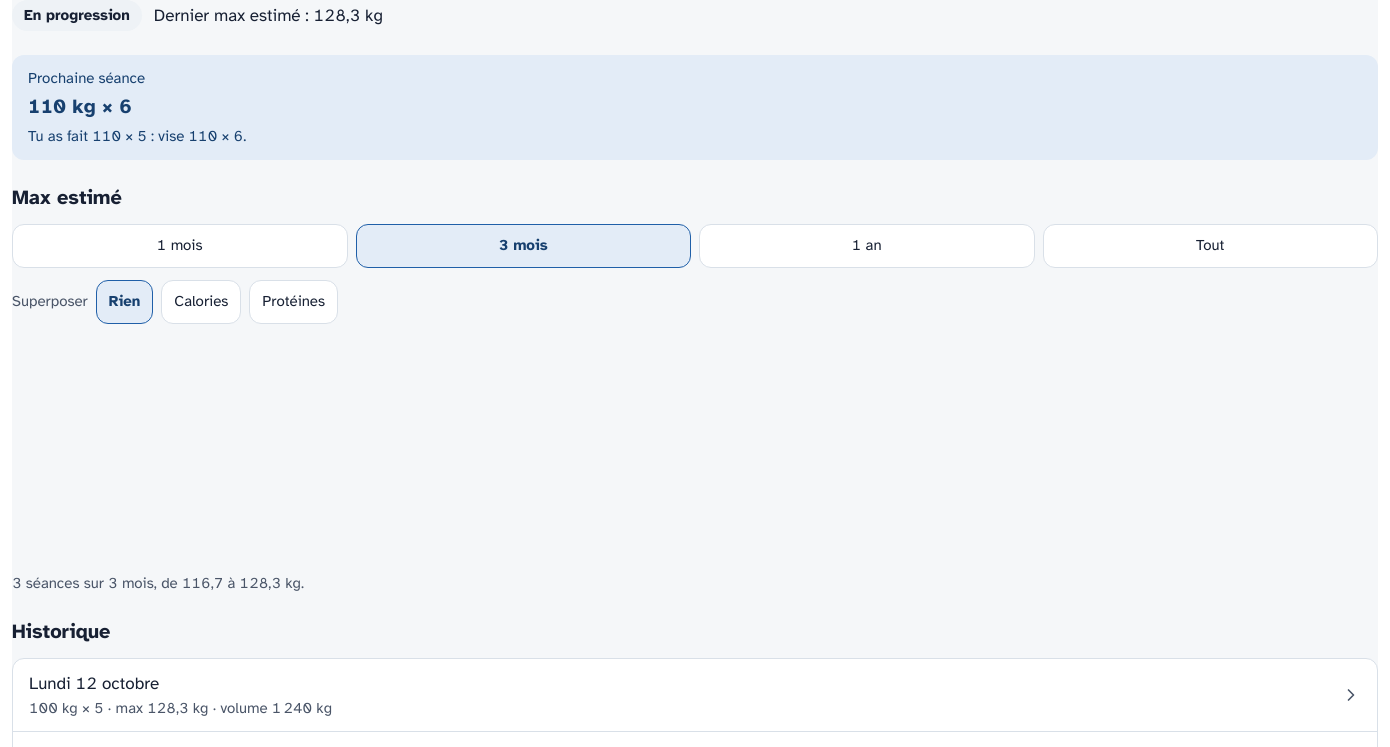
Test case: ExerciseStats (fiche exercice) › change de période
Expected: the text "En progression" is shown, [12, 0, 142, 30]
Click the button "1 mois" at coordinates (180, 246), box [12, 224, 348, 268]
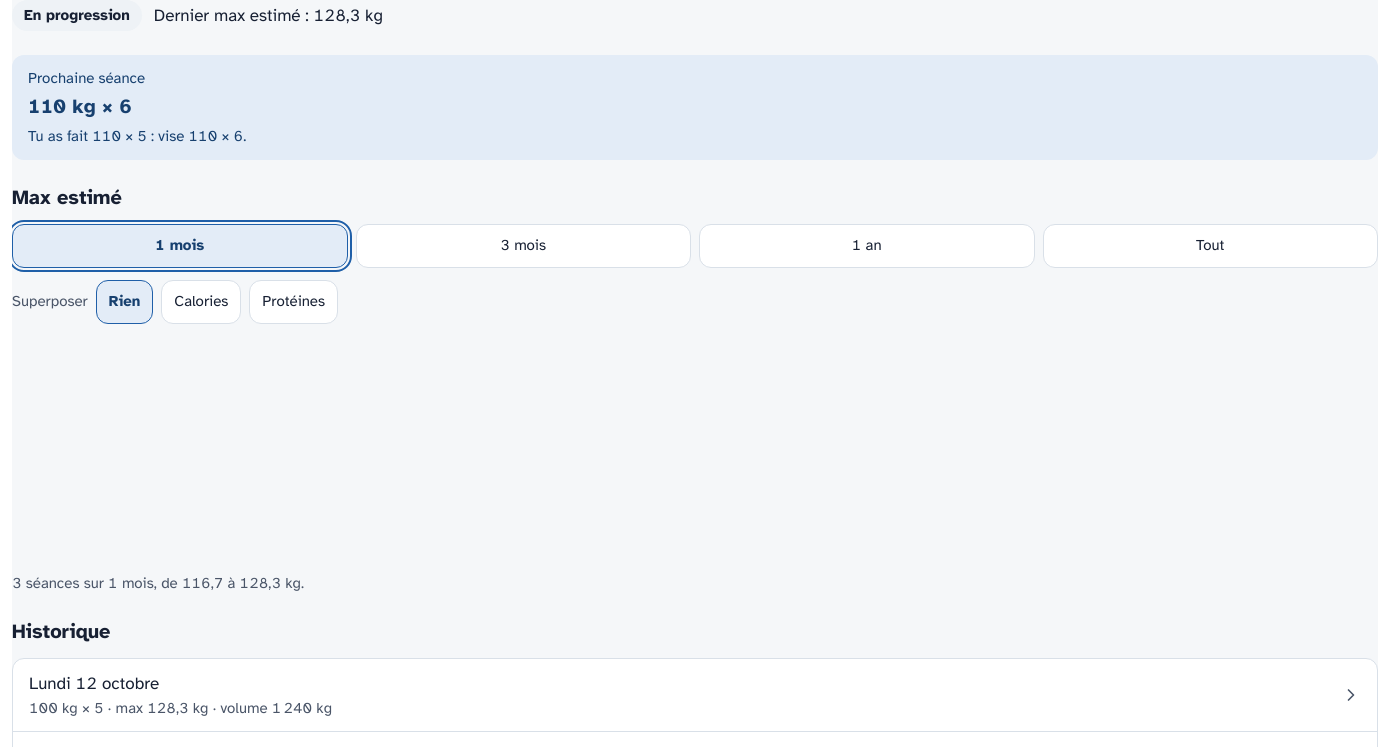
Now the text "3 séances sur 1 mois, de 116,7 à 128,3 kg." is shown, box [12, 574, 304, 592]
